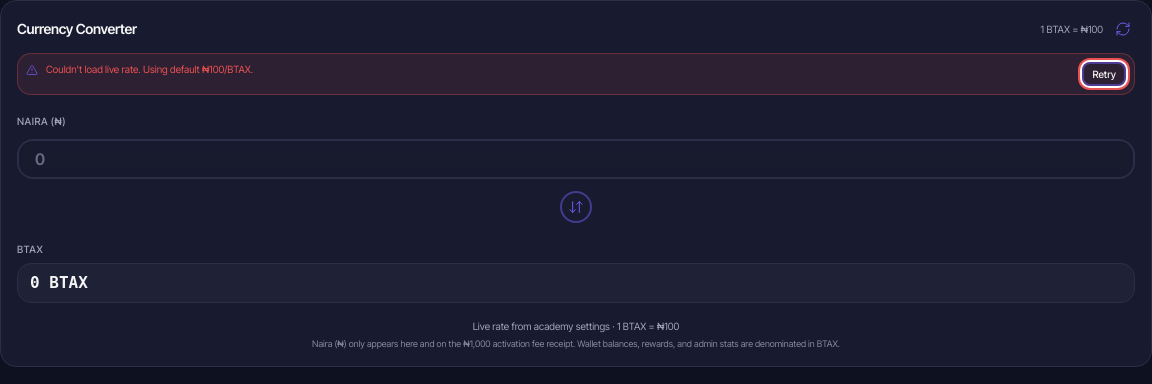
Test: CurrencyConverter › shows a friendly error banner with Retry when academy_settings fails
Step 1. Click the button "Retry" → (1104, 74), box [1082,62,1126,86]
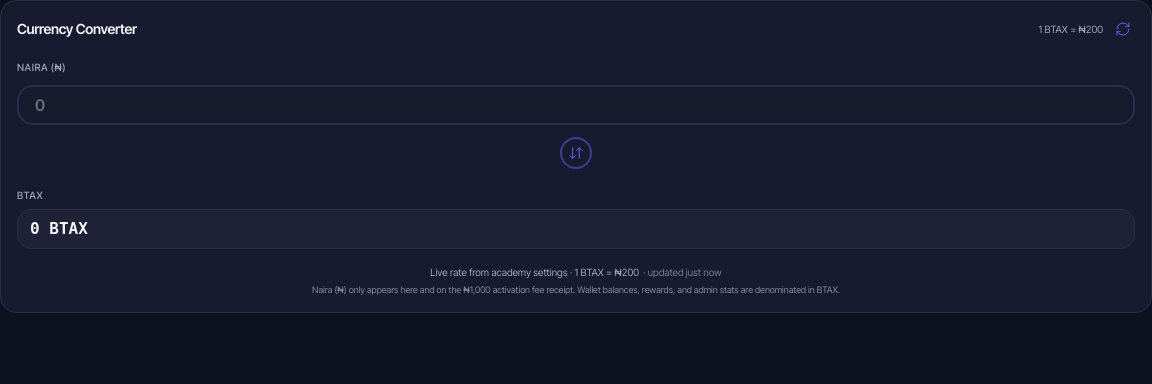
expect the message "Couldn't load live rate. Using default ₦100/BTAX. Retry" is gone: met
expect the text "1 BTAX = ₦200" is shown: met, box [1038,22,1103,36]
